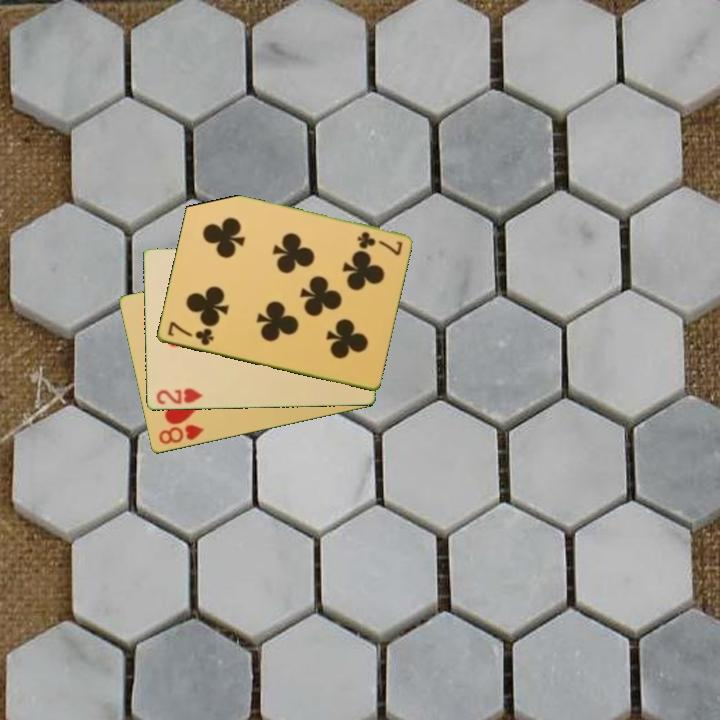2h: (152, 385, 205, 407)
7c: (164, 318, 216, 349), (353, 228, 405, 258)
8h: (155, 421, 206, 447)
